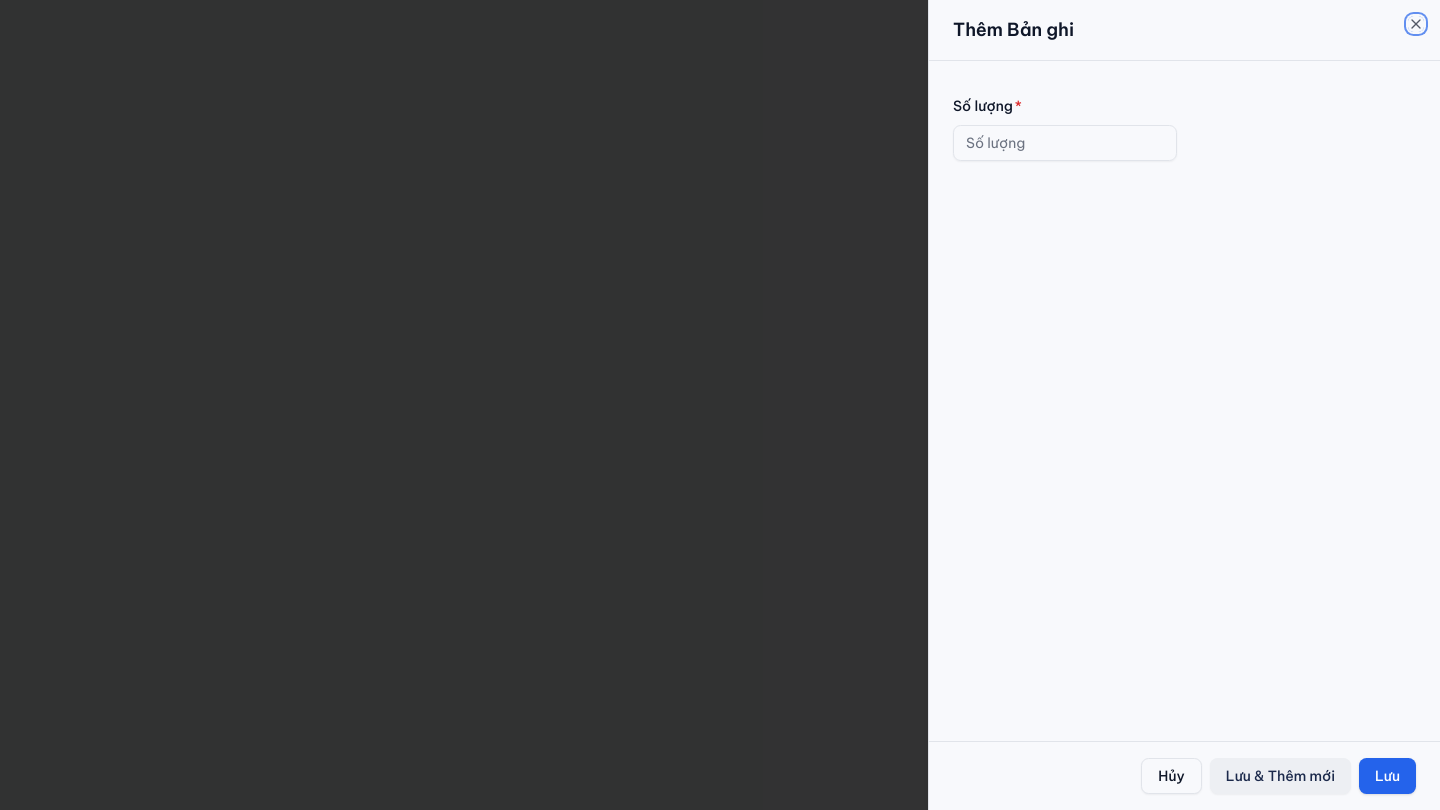
CrudSheet submission › rejects a blank required number instead of coercing it to zero
Click the button "Lưu" at x=1388, y=776, box [1359,758,1416,794]
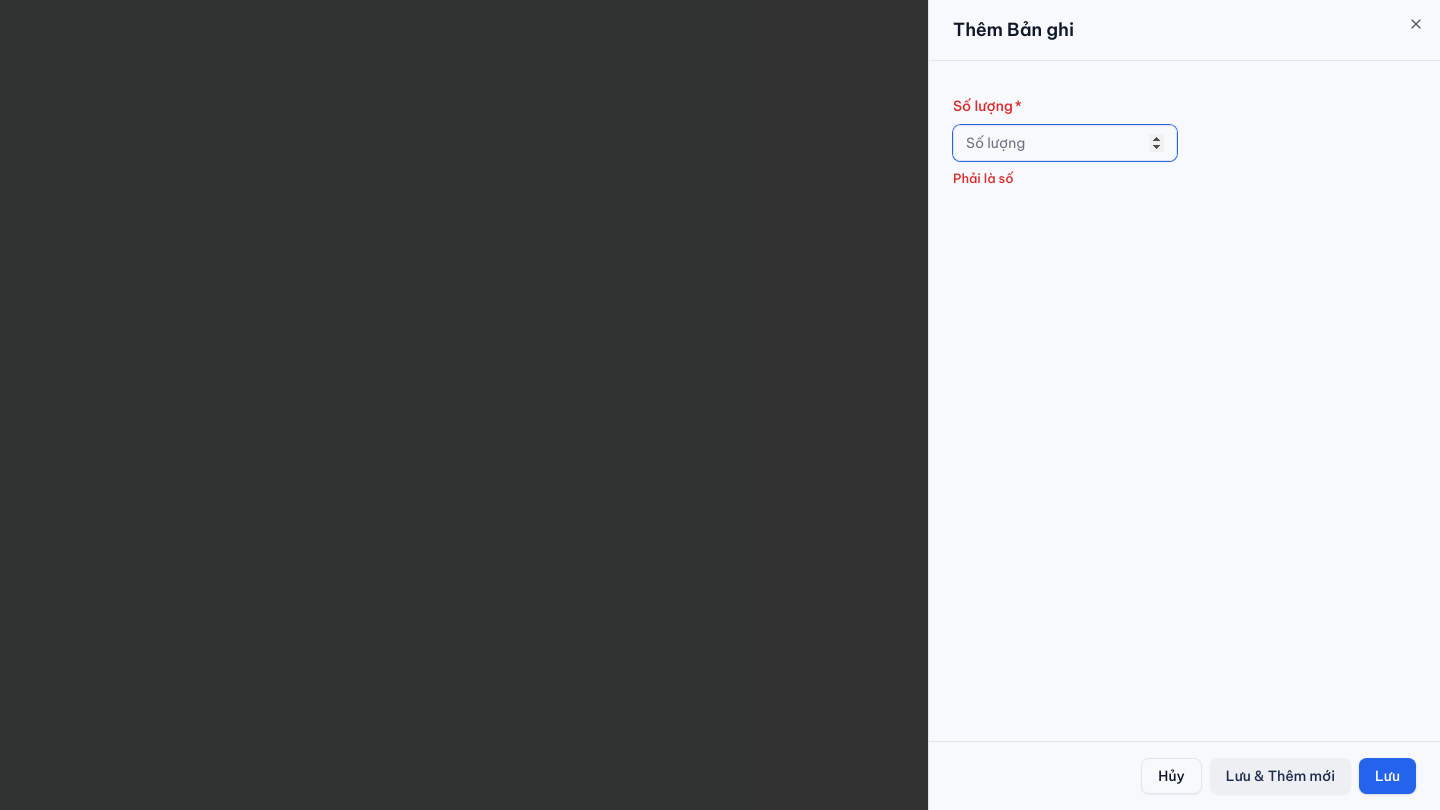
Check: the text "Phải là số" is shown, box [953,170,1014,186]
